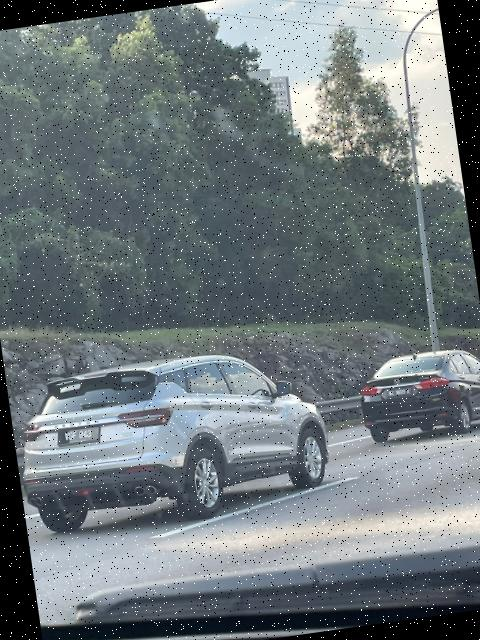License_Plate: (57, 422, 100, 450), (381, 381, 415, 402)
car: (14, 334, 346, 555), (342, 329, 480, 444)
